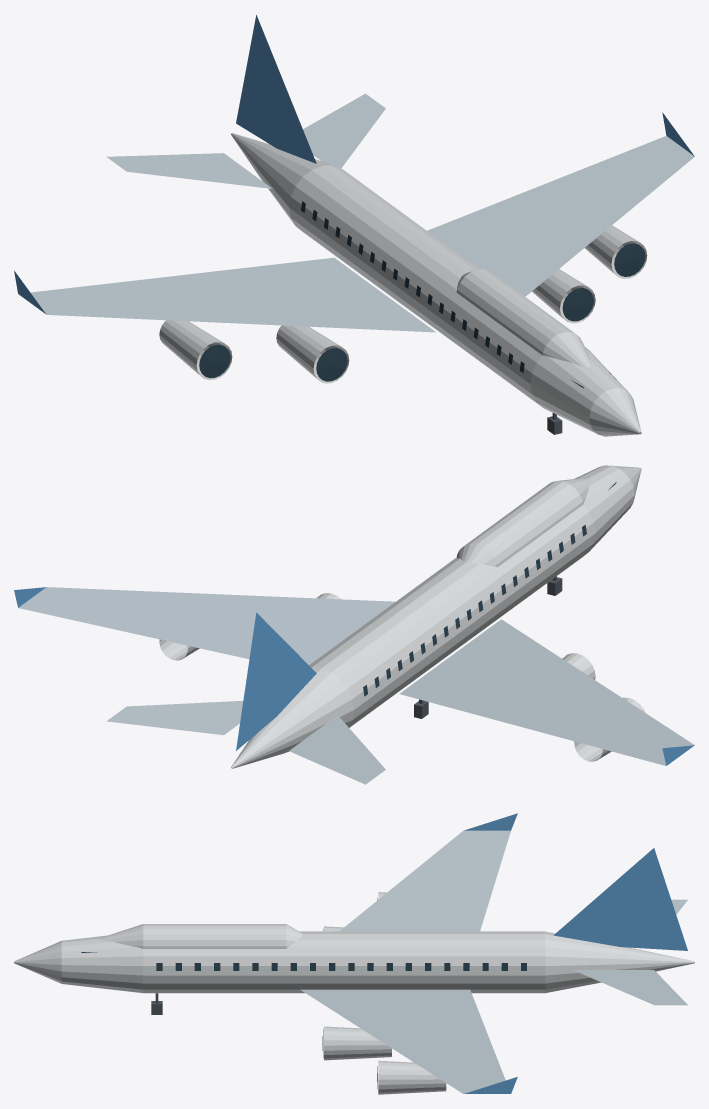
The model's file is b747-UAL.gltf.
The picture shows the model from 3 angles, top to bottom: view 1: azimuth 30°, elevation 25°; view 2: azimuth 150°, elevation 25°; view 3: azimuth 270°, elevation 25°; orthographic projection. The views are drawn at different scales.
Parts seen in each view (by area): view 1: object 1; view 2: object 1, Gear; view 3: object 1.
Part boxes in pixels (left/top/right/bottom): object 1: left=14, top=15, right=694, bottom=436; object 1: left=14, top=465, right=694, bottom=784; Gear: left=414, top=576, right=562, bottom=718; object 1: left=14, top=813, right=694, bottom=1094.
Size of the model in its own units: 65 by 19.04 by 71.
